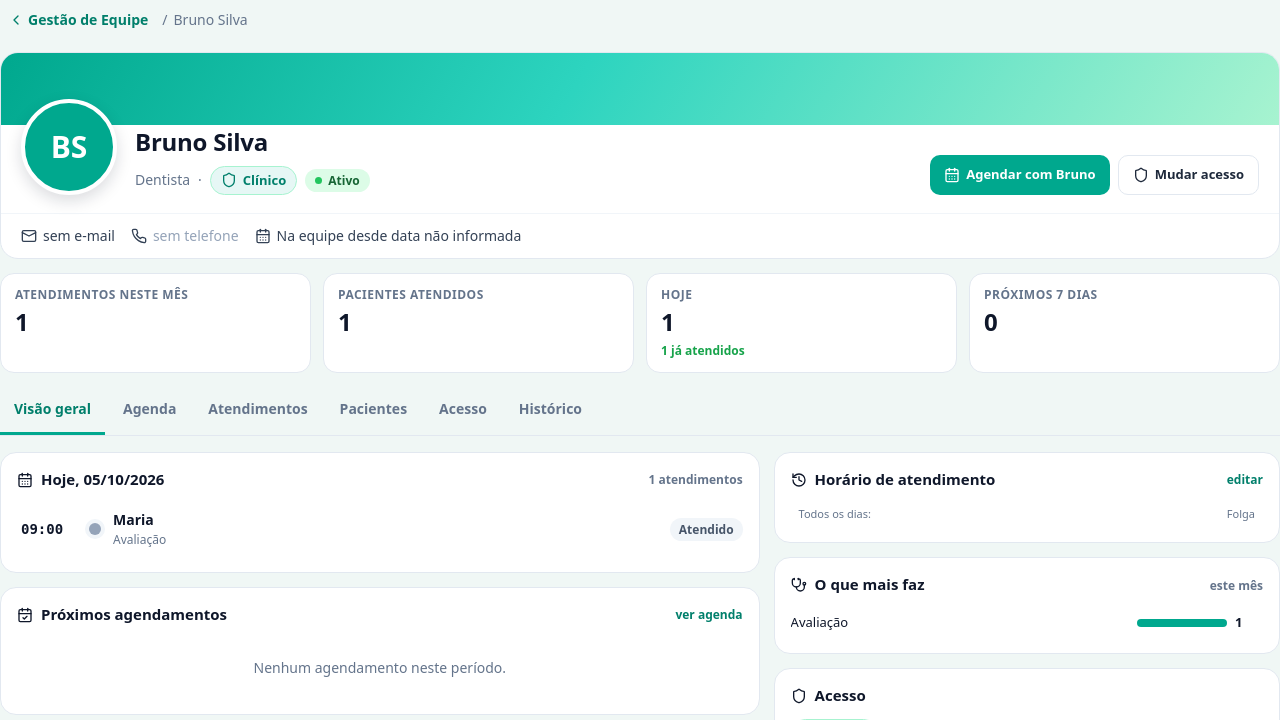
Test: exibe botão editar quando canManageDisponibilidade=true sem depender de tipoOrg e abre modal
Click the button "editar". click: (1245, 480)
box: [1227,471,1263,488]
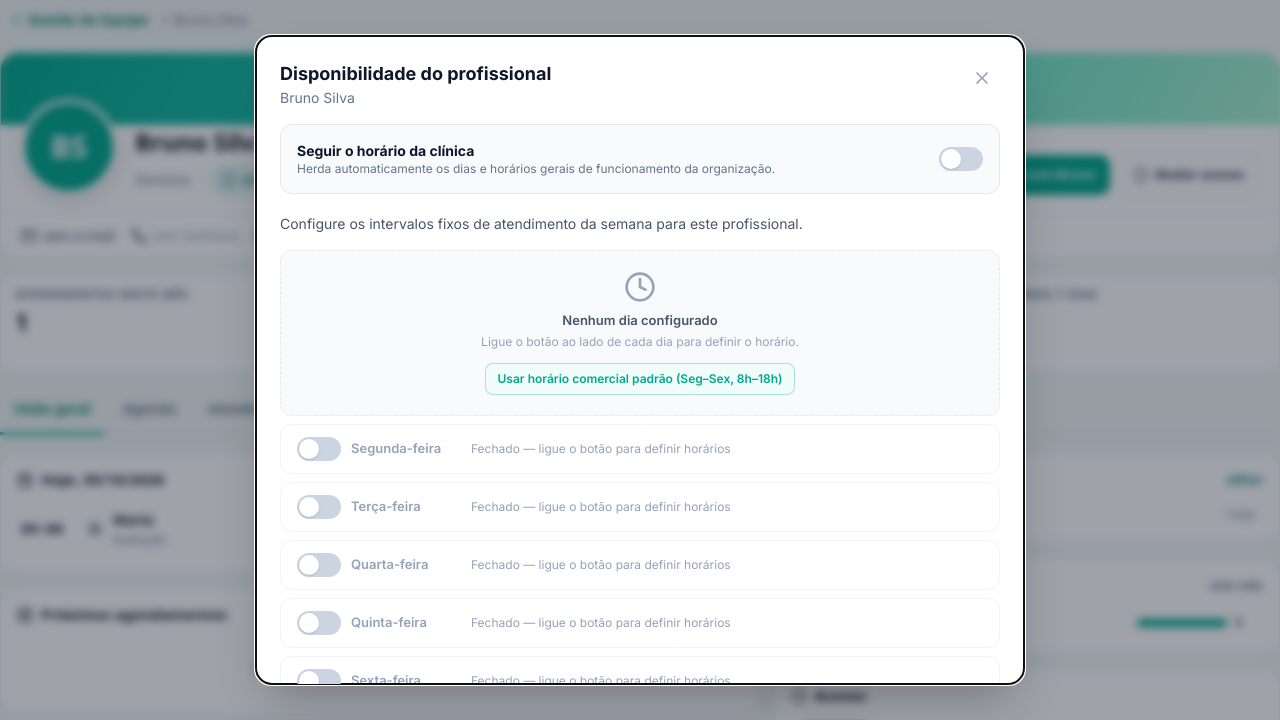
Result: the dialog "Disponibilidade do profissional" is shown at [256,36,1024,684]
